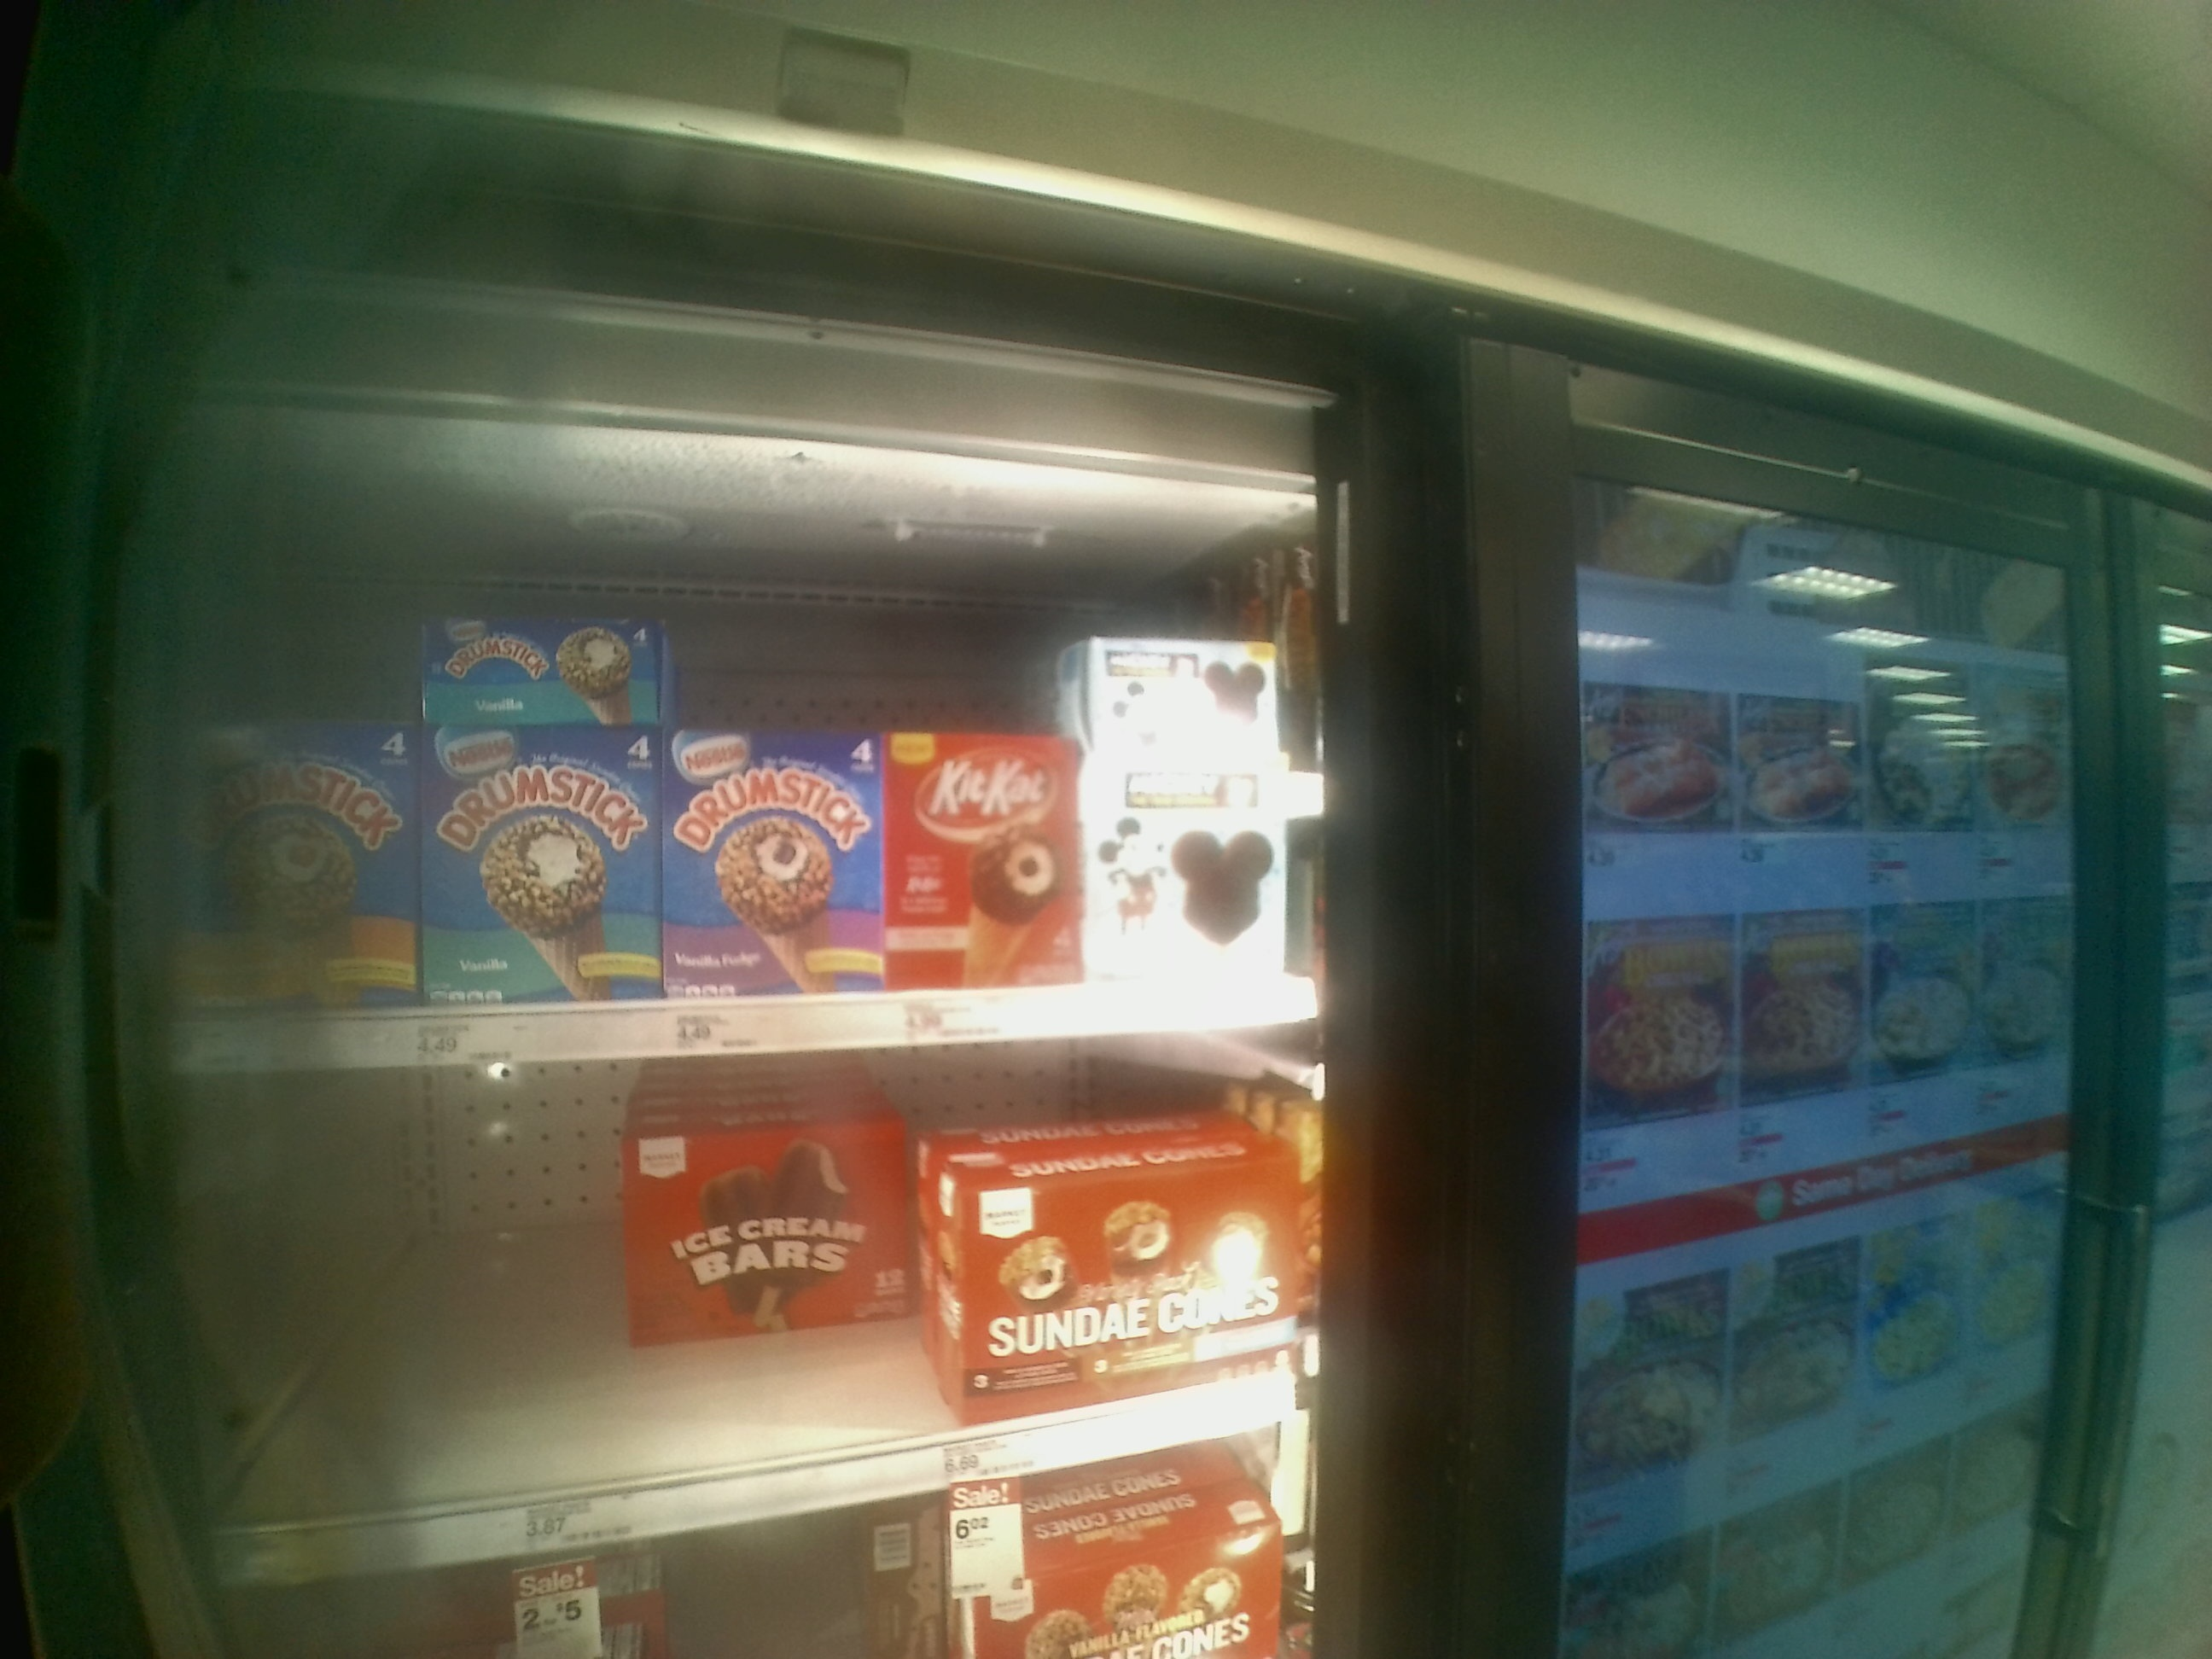shelf: (176, 1019, 1362, 1593), (169, 556, 1367, 1073)
